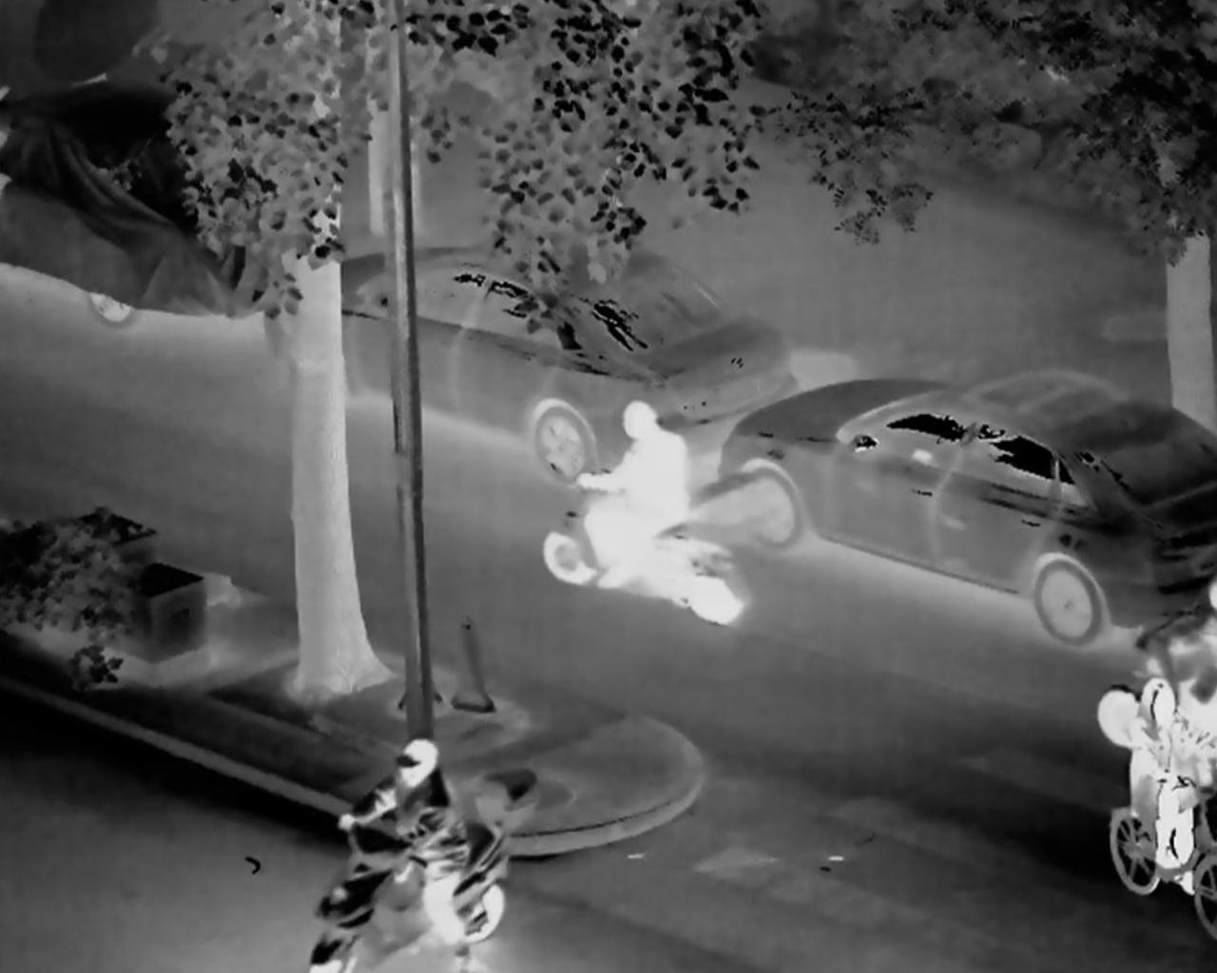person: (329, 728, 493, 973), (572, 395, 695, 572), (1113, 663, 1201, 898)
